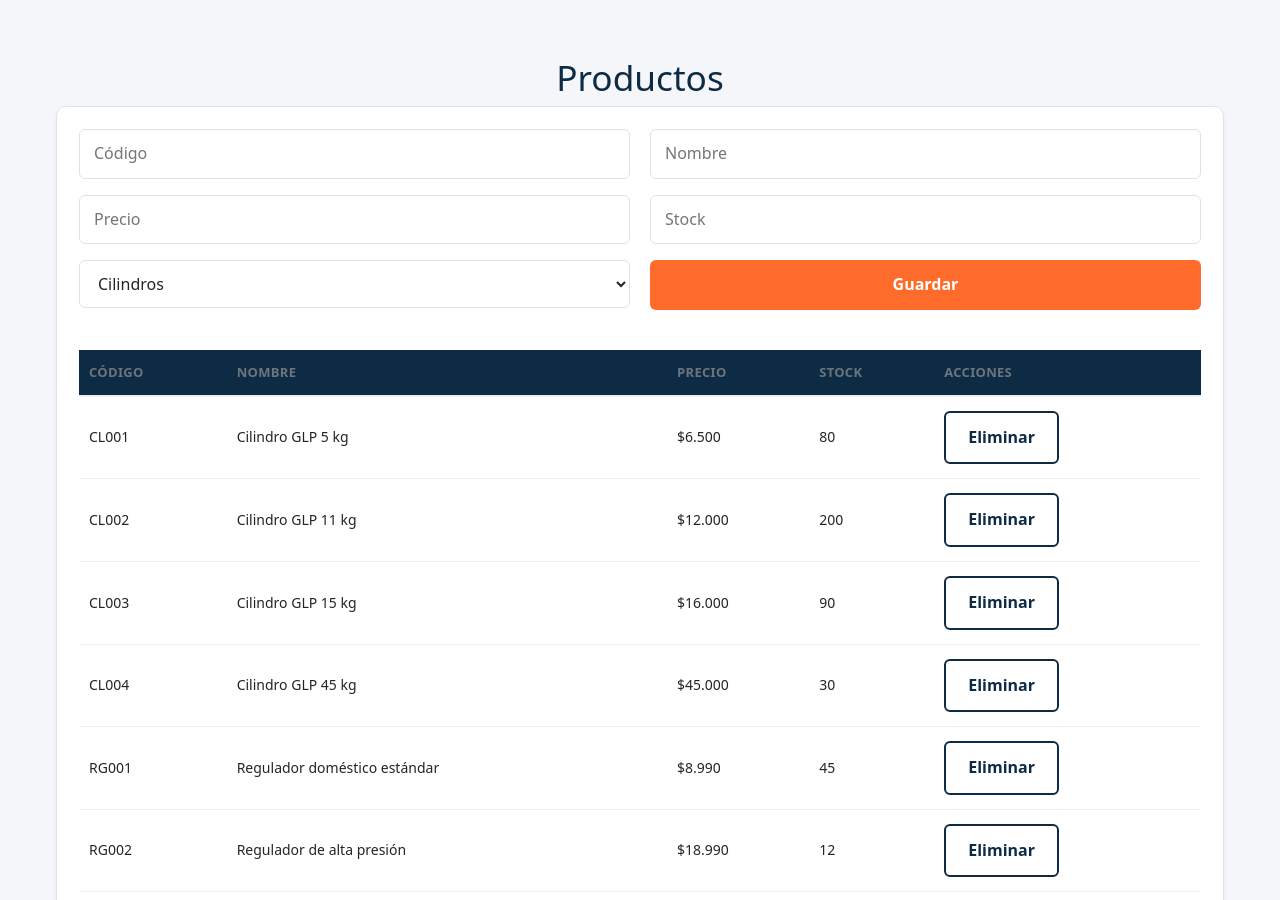
Scenario: CRUD de productos del administrador › deberia mostrar error si faltan codigo y nombre
Click the button "Guardar": click(926, 285) [650,260,1201,310]
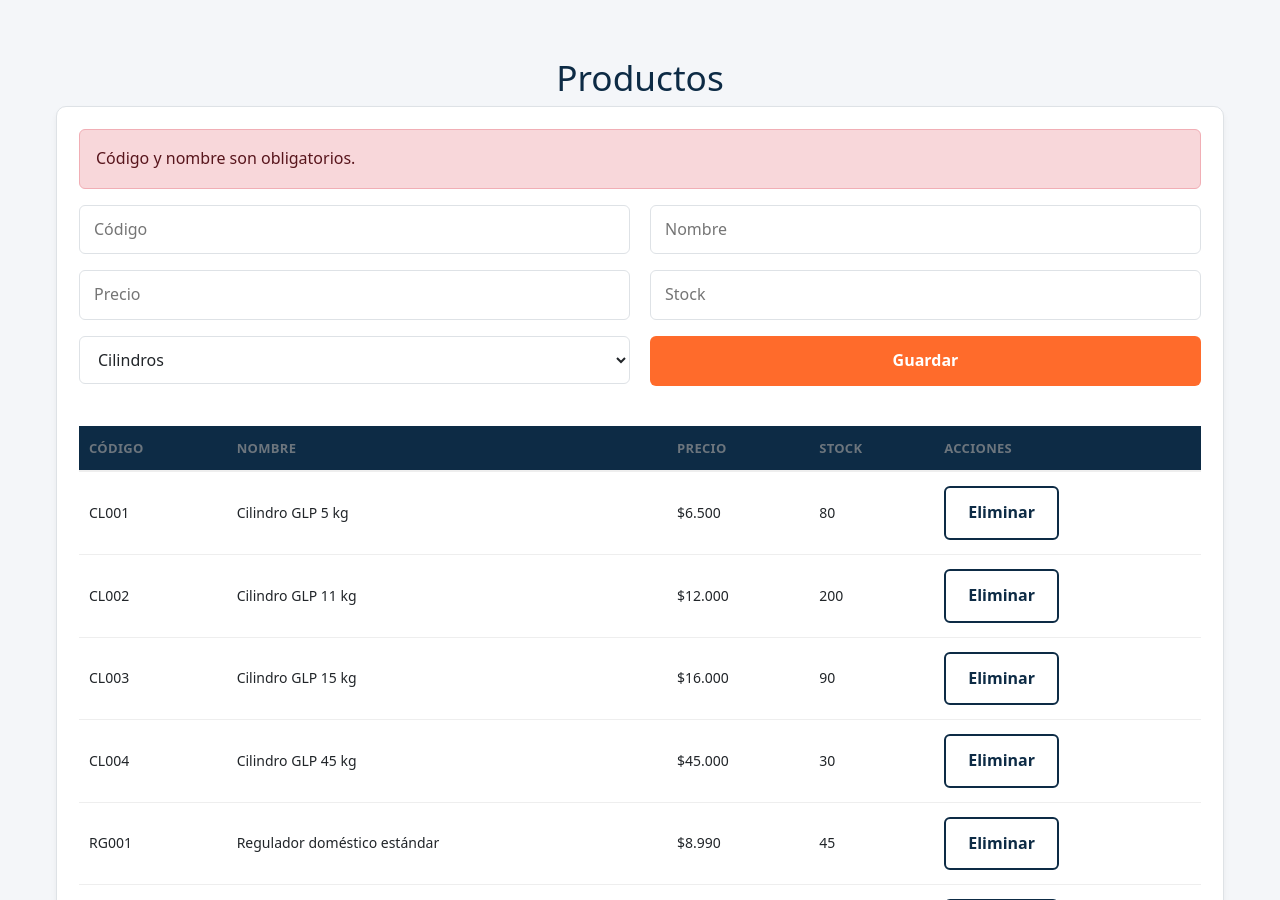
Expected: the text "Código y nombre son obligatorios." is shown, [79,129,1201,189]
